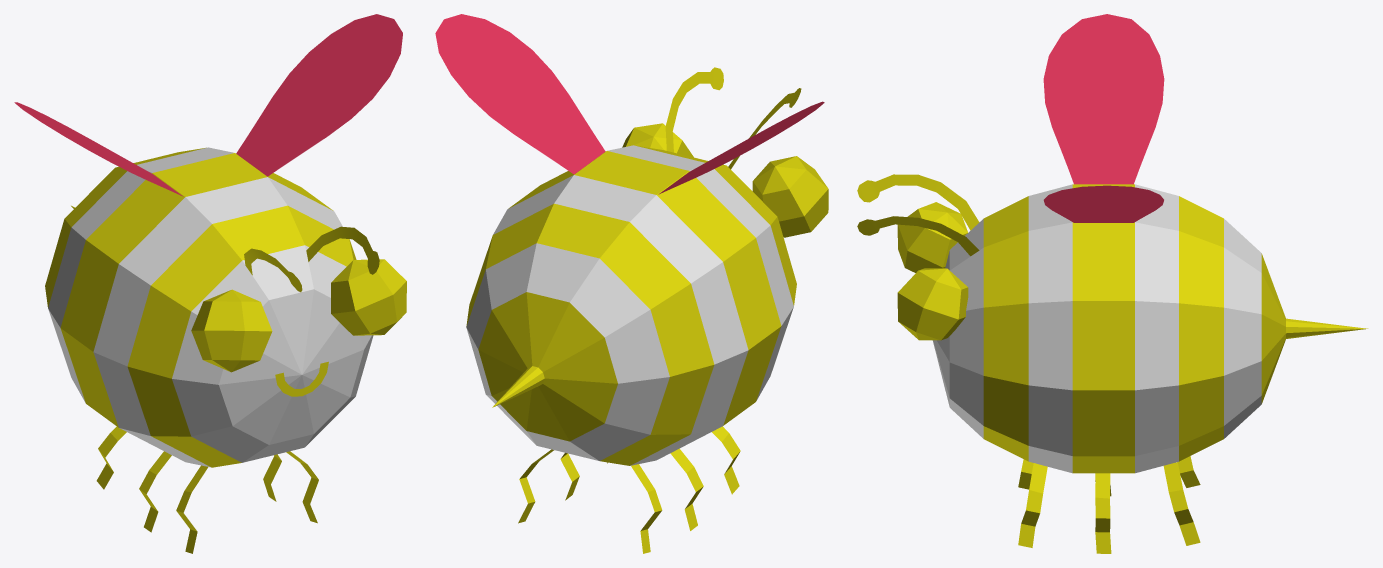
The model's file is bee.fbx.
The picture shows the model from 3 angles, left to right: view 1: azimuth 30°, elevation 25°; view 2: azimuth 150°, elevation 25°; view 3: azimuth 270°, elevation 25°; orthographic projection. The views are drawn at different scales.
Parts seen in each view (by area): view 1: Plane; view 2: Plane; view 3: Plane.
Part boxes in pixels (box(x1,y1,x2,y2)): Plane: box(14, 14, 406, 553); Plane: box(435, 14, 828, 553); Plane: box(857, 14, 1368, 553).
Bounding box in the file's own units: 27.61 × 31.9 × 34.77.
